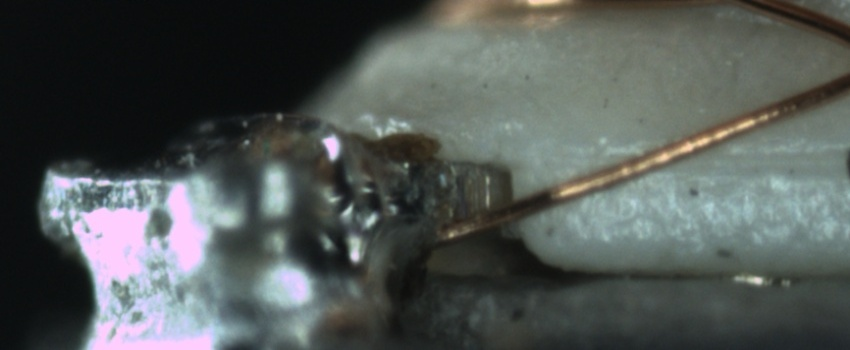DL: (577, 129, 850, 193)
